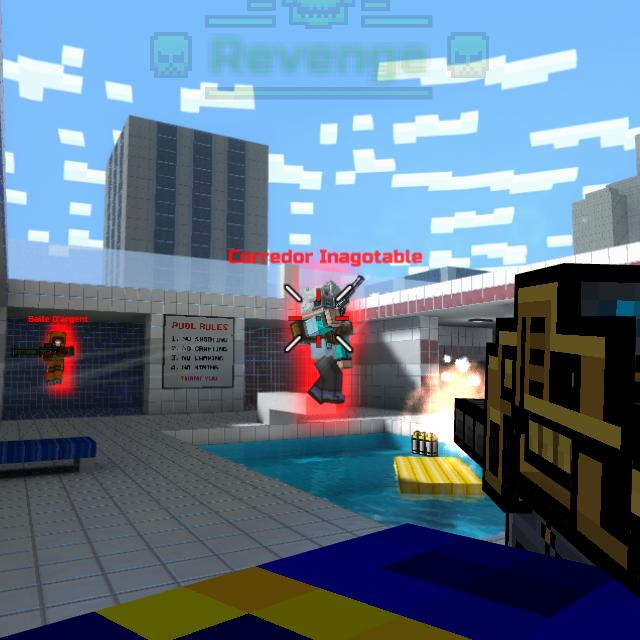Enemy: (289, 284, 354, 405), (42, 331, 75, 386)
